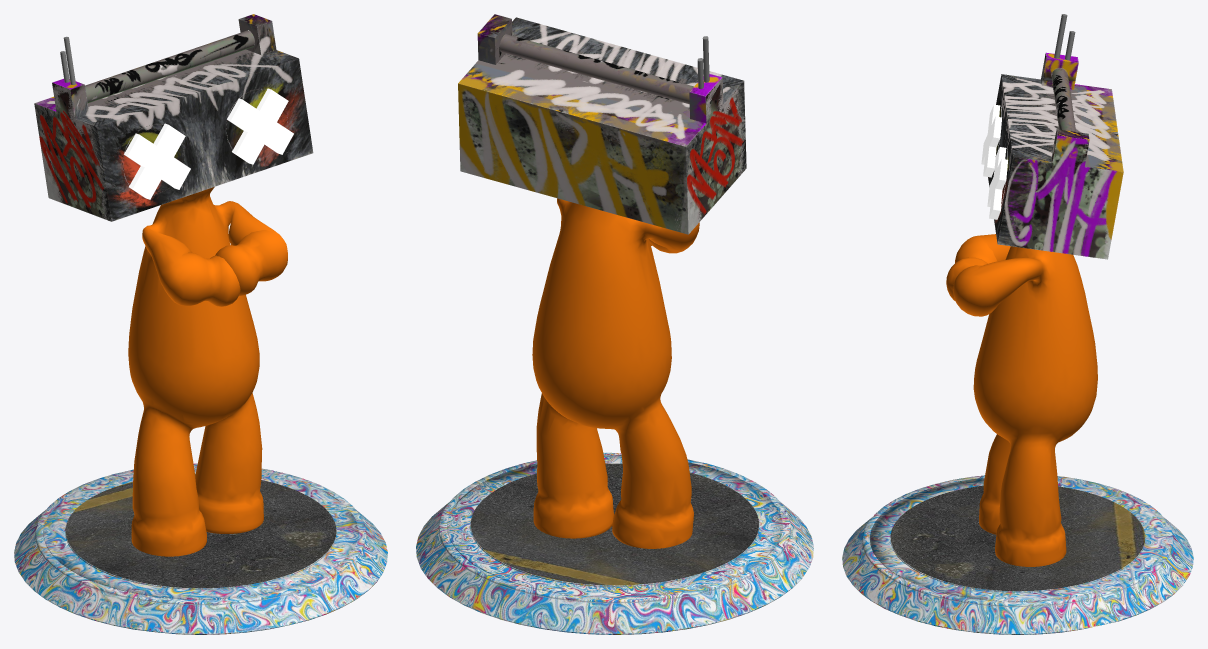
3 renders of one model, left to right at view 1: azimuth 30°, elevation 25°; view 2: azimuth 150°, elevation 25°; view 3: azimuth 270°, elevation 25°, orthographic. The views are drawn at different scales.
Visible parts, largest first — view 1: BBody; view 2: BBody; view 3: BBody.
Boxes of the visible parts, x1=… form: BBody: x1=14, y1=14, x2=387, y2=634; BBody: x1=416, y1=14, x2=813, y2=634; BBody: x1=842, y1=14, x2=1193, y2=634.
Size of the model in its own units: 1.45 by 2.25 by 1.45.
Materials: 6 (3 with a texture image).
